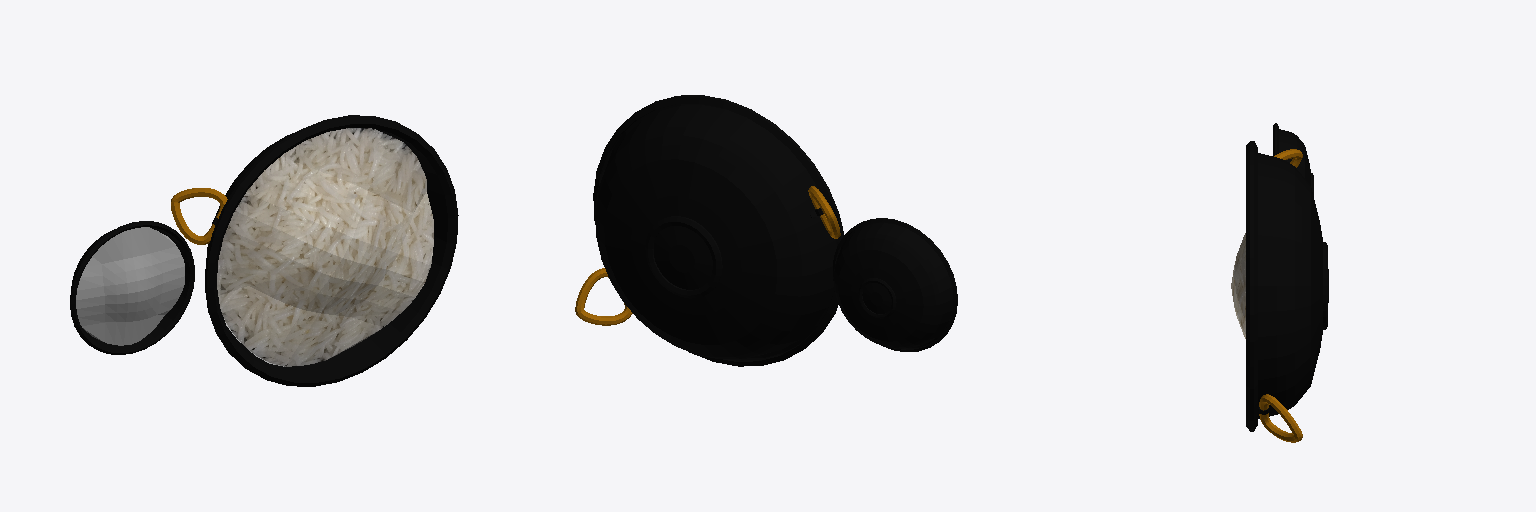
3 views of the same model, side by side, from view 1: azimuth 30°, elevation 25°; view 2: azimuth 150°, elevation 25°; view 3: azimuth 270°, elevation 25° (orthographic).
Parts seen in each view (by area): view 1: Plane, Cylinder, Plane.001_Plane.003, Cylinder.001_Cylinder.007, BezierCircle_CUBezierCircle.001; view 2: Cylinder, Cylinder.001_Cylinder.007, BezierCircle.003_CUBezierCircle.003, BezierCircle_CUBezierCircle.001; view 3: Cylinder, Plane, BezierCircle.003_CUBezierCircle.003, Cylinder.001_Cylinder.007.
Boxes of the visible parts, x1=… form: Plane: x1=217, y1=128, x2=433, y2=366; Cylinder: x1=205, y1=115, x2=458, y2=386; Plane.001_Plane.003: x1=76, y1=227, x2=184, y2=345; Cylinder.001_Cylinder.007: x1=70, y1=221, x2=194, y2=354; BezierCircle_CUBezierCircle.001: x1=171, y1=188, x2=227, y2=244; Cylinder: x1=593, y1=95, x2=843, y2=366; Cylinder.001_Cylinder.007: x1=833, y1=218, x2=957, y2=351; BezierCircle.003_CUBezierCircle.003: x1=575, y1=268, x2=632, y2=325; BezierCircle_CUBezierCircle.001: x1=808, y1=186, x2=840, y2=238; Cylinder: x1=1246, y1=141, x2=1328, y2=431; Plane: x1=1231, y1=233, x2=1245, y2=338; BezierCircle.003_CUBezierCircle.003: x1=1259, y1=394, x2=1302, y2=442; Cylinder.001_Cylinder.007: x1=1273, y1=123, x2=1313, y2=195.
Size of the model in its own units: 13.65 by 9.16 by 3.08.
4 materials, 1 textured.